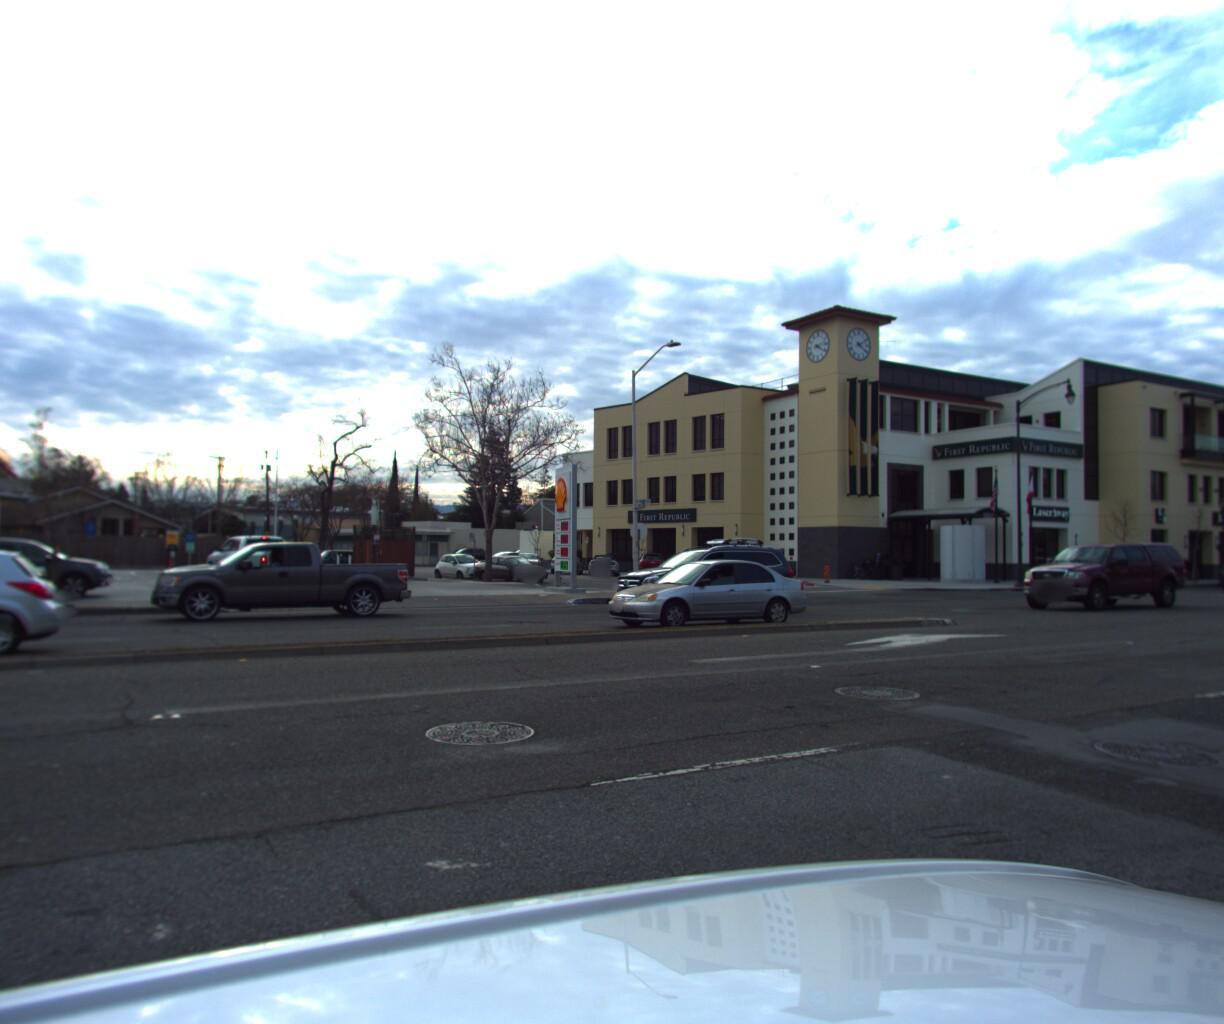bus: (1212, 521, 1224, 587)
car: (150, 538, 411, 620), (606, 528, 800, 614), (591, 553, 809, 629), (1012, 535, 1187, 608), (0, 532, 121, 598), (0, 542, 58, 674), (204, 531, 321, 588), (0, 540, 58, 629), (469, 549, 556, 583), (289, 546, 377, 574), (417, 549, 495, 580), (633, 548, 669, 576), (587, 549, 618, 575), (1210, 536, 1224, 591), (550, 548, 580, 571)
